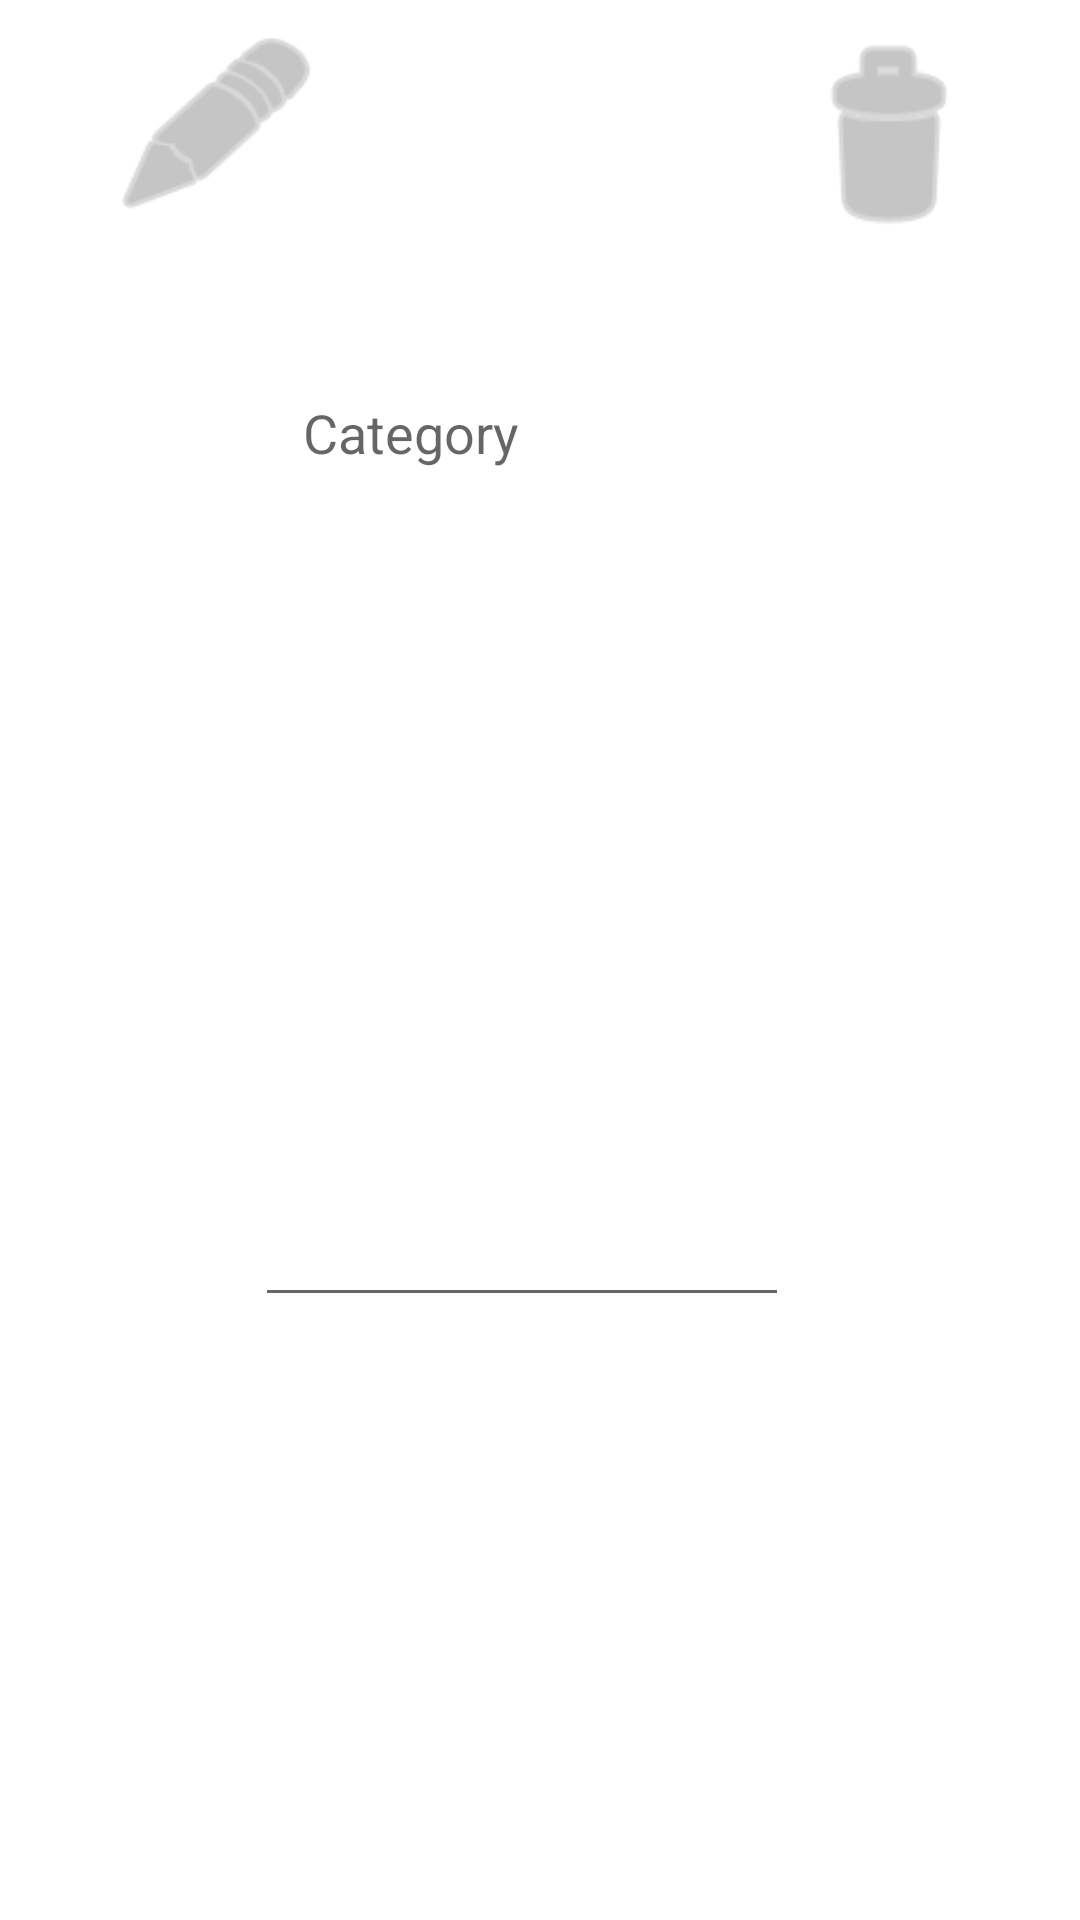

Screen size 1080×1920. Icon name, then its center in pixels as [x,y]:
delete: [889,134]
edit: [216,123]
